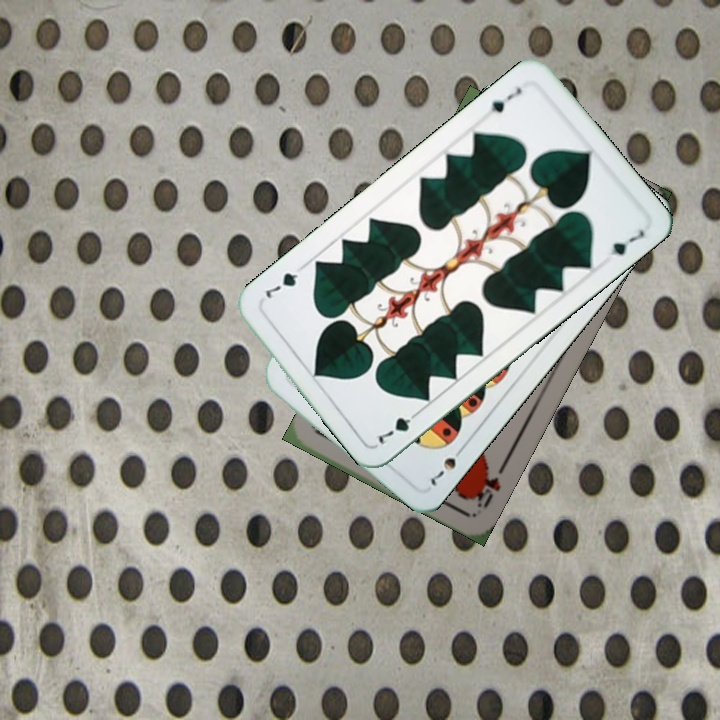G7: (373, 405, 423, 448), (486, 83, 524, 116)
HO: (469, 460, 509, 511)
S7: (426, 441, 468, 490)
